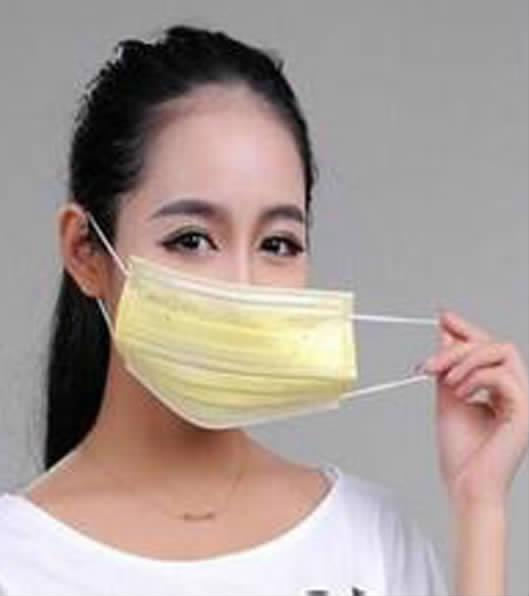WRONG: (119, 152, 327, 428)
